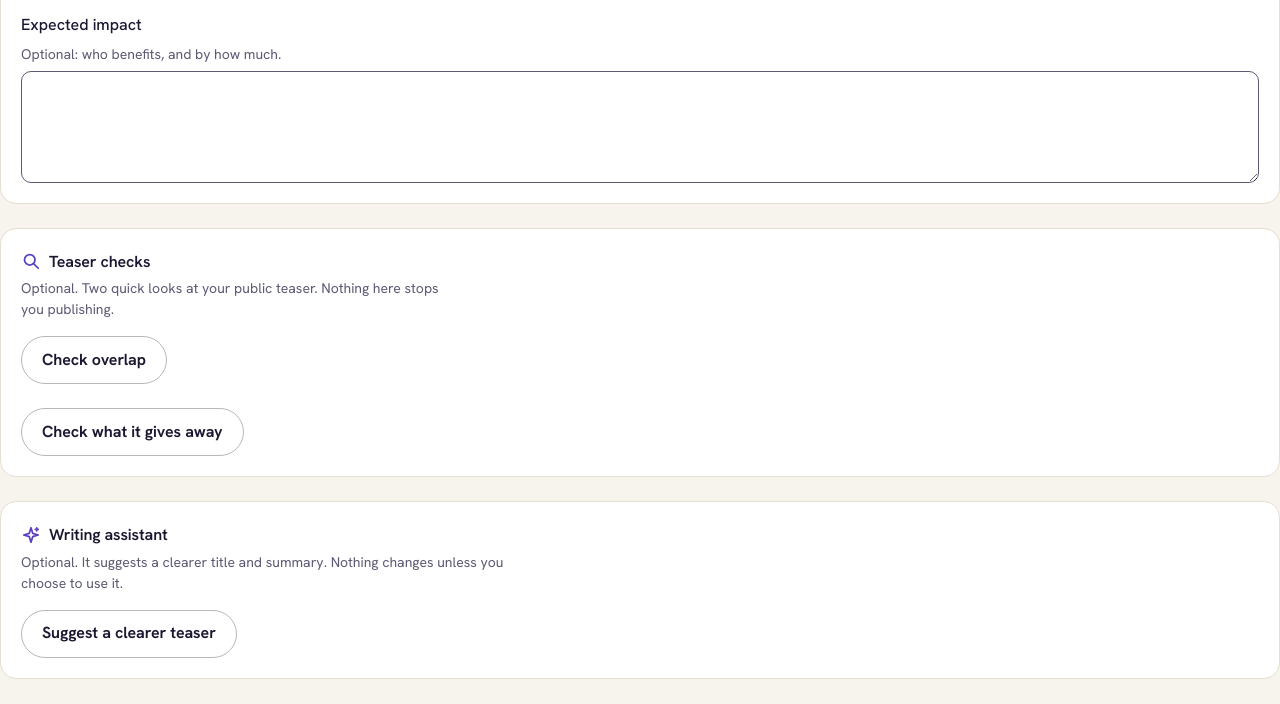
Test: check overlap › words high overlap as no judgement, and labels the demo fallback
(page scrolled)
What coordinates should you click on to do the following:
click the button "Check overlap"
I would click on:
 (94, 360)
Its box is [21, 336, 167, 384].
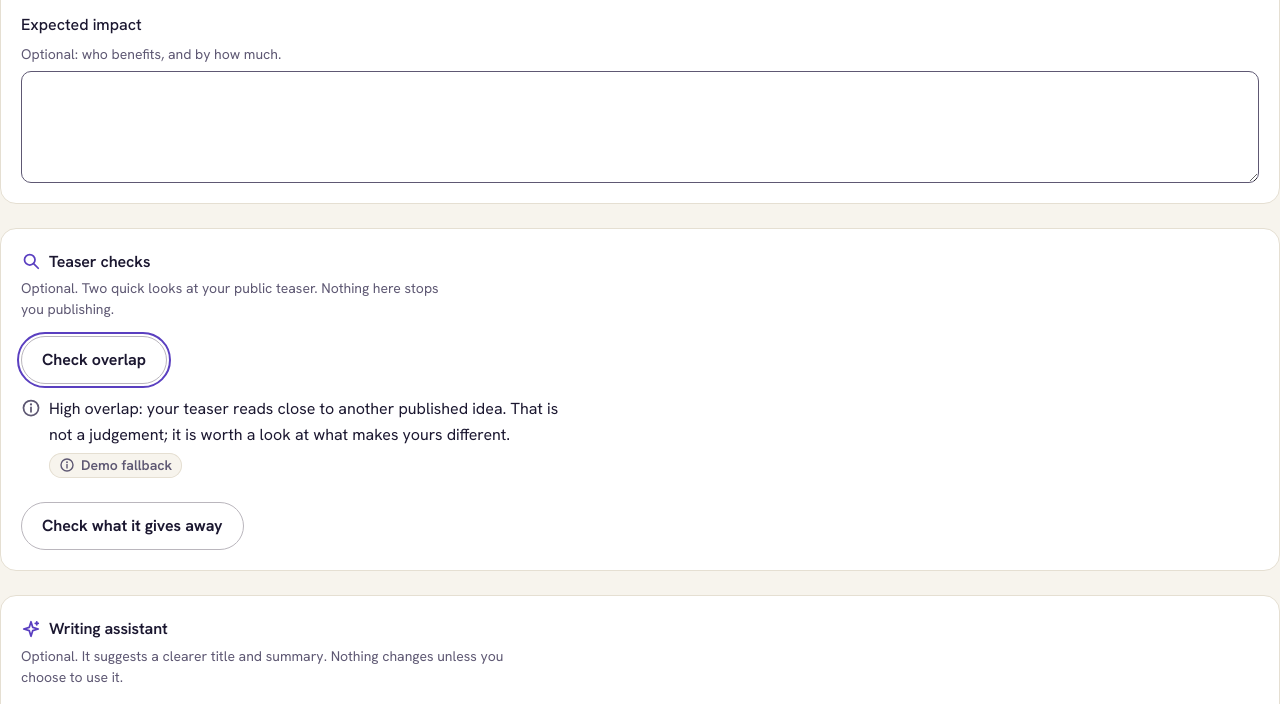
Expected: the text "High overlap: your teaser reads close to another published idea. That is not a judgement; it is worth a look at what makes yours different." is shown, [49, 398, 558, 445]
